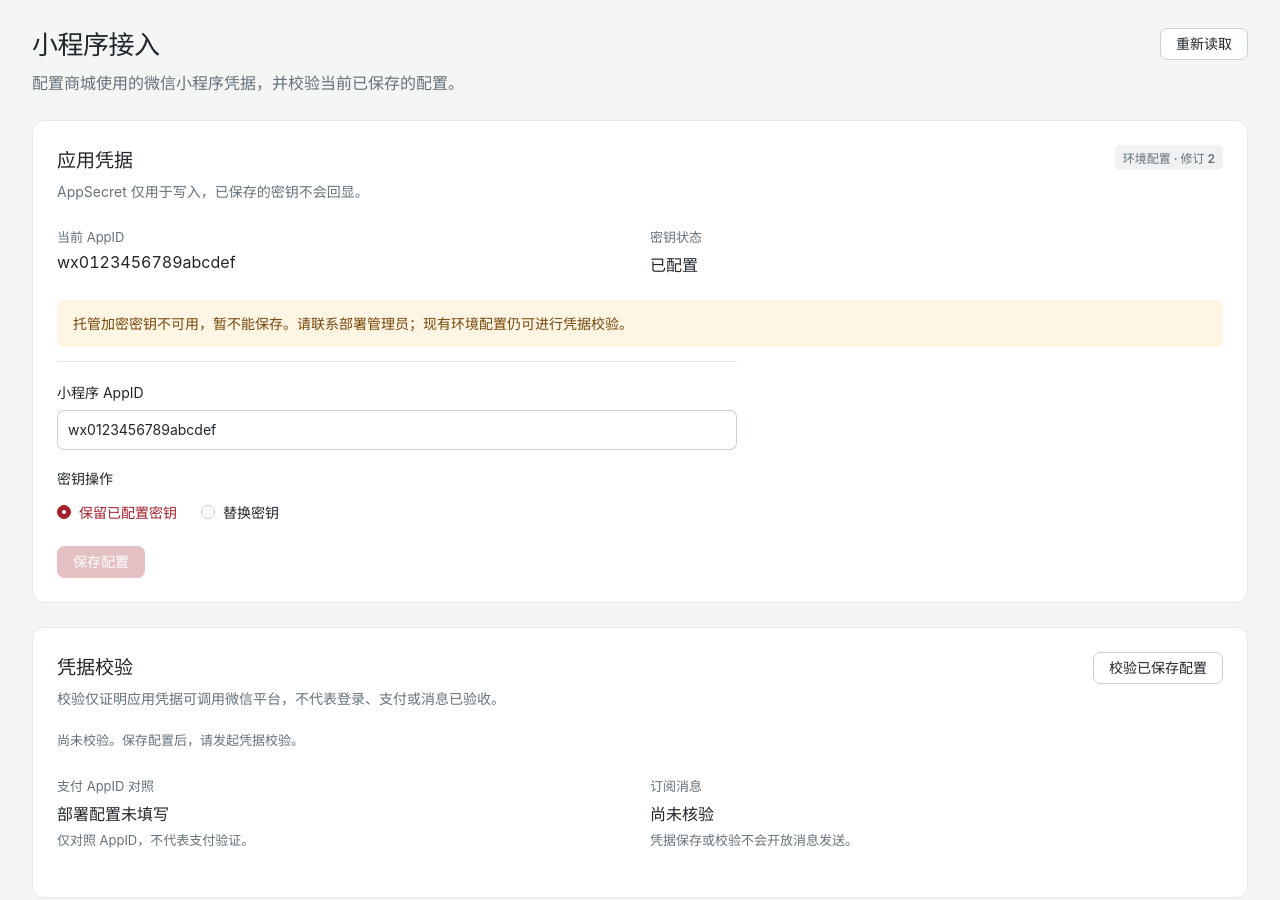
Scenario: WeChat integration boundary › tests only the saved revision and distinguishes credential validation from real login
The image size is (1280, 900).
Expected: the button "保存配置" is disabled, [57,546,145,578]
Click the button "校验已保存配置" at (1158, 668), box [1093,652,1223,684]
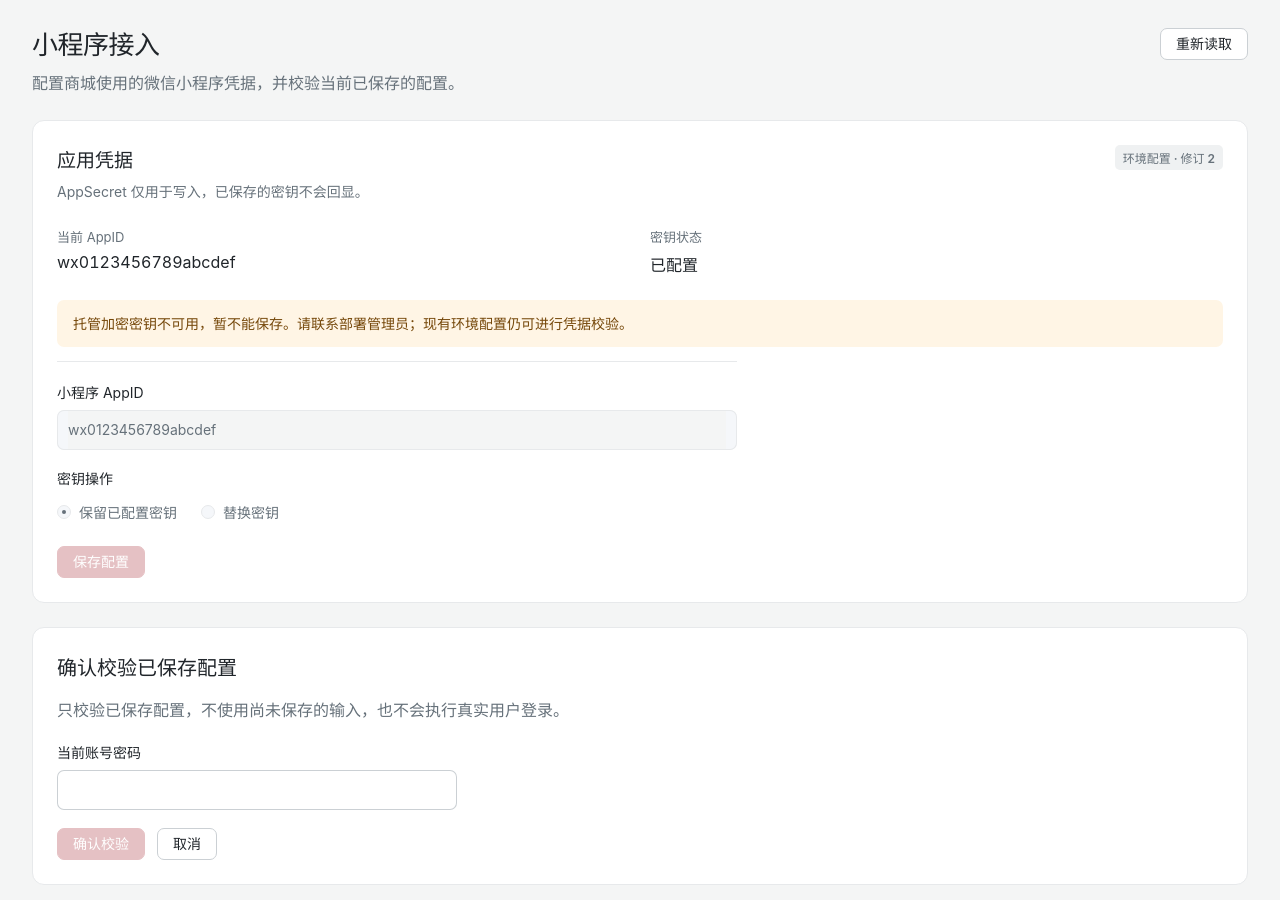
Type "synthetic-password" into the password field with id "wechat-confirm-password" at (257, 790), box [68,771,446,809]
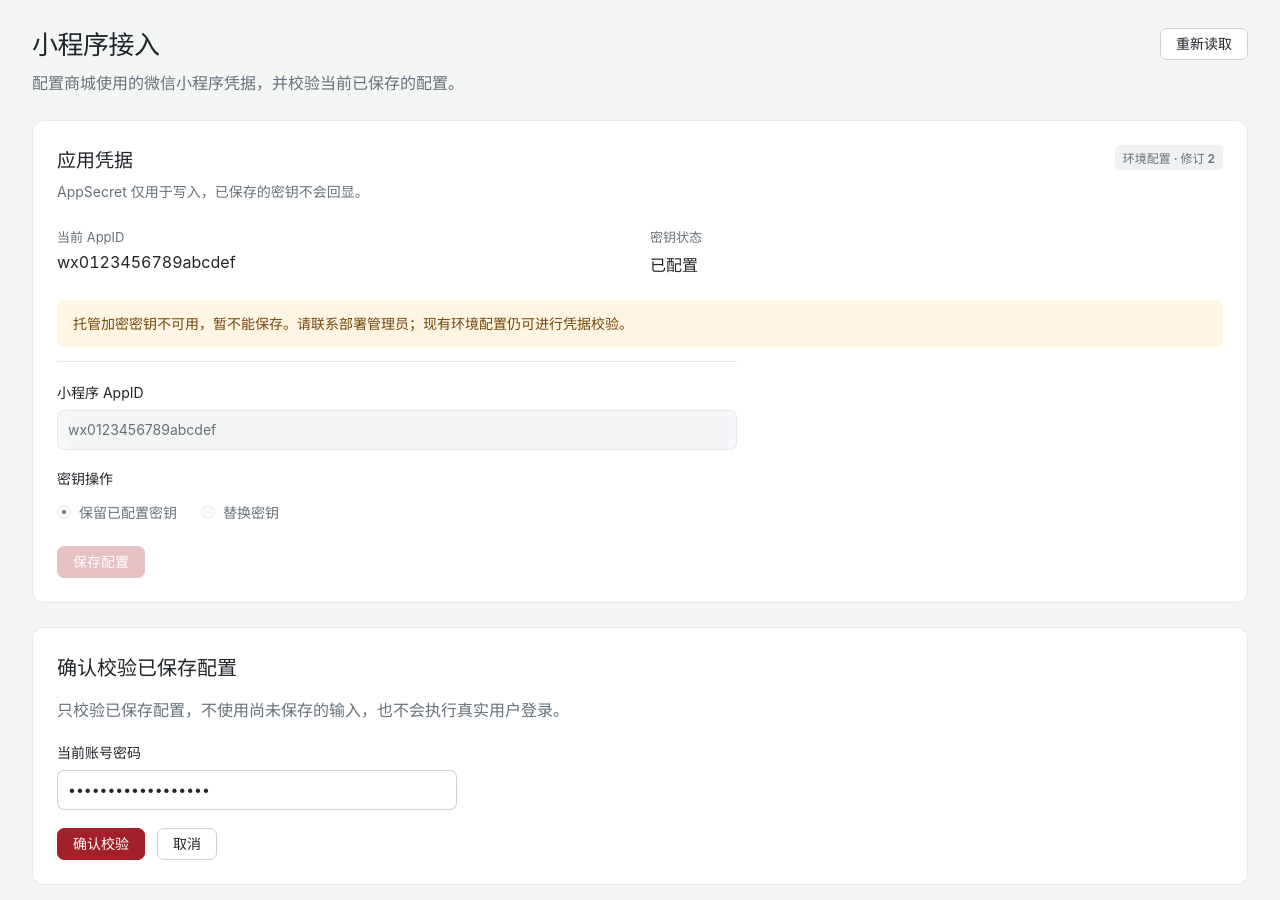
Submit the form named "二次确认", box [32,627,1248,885]
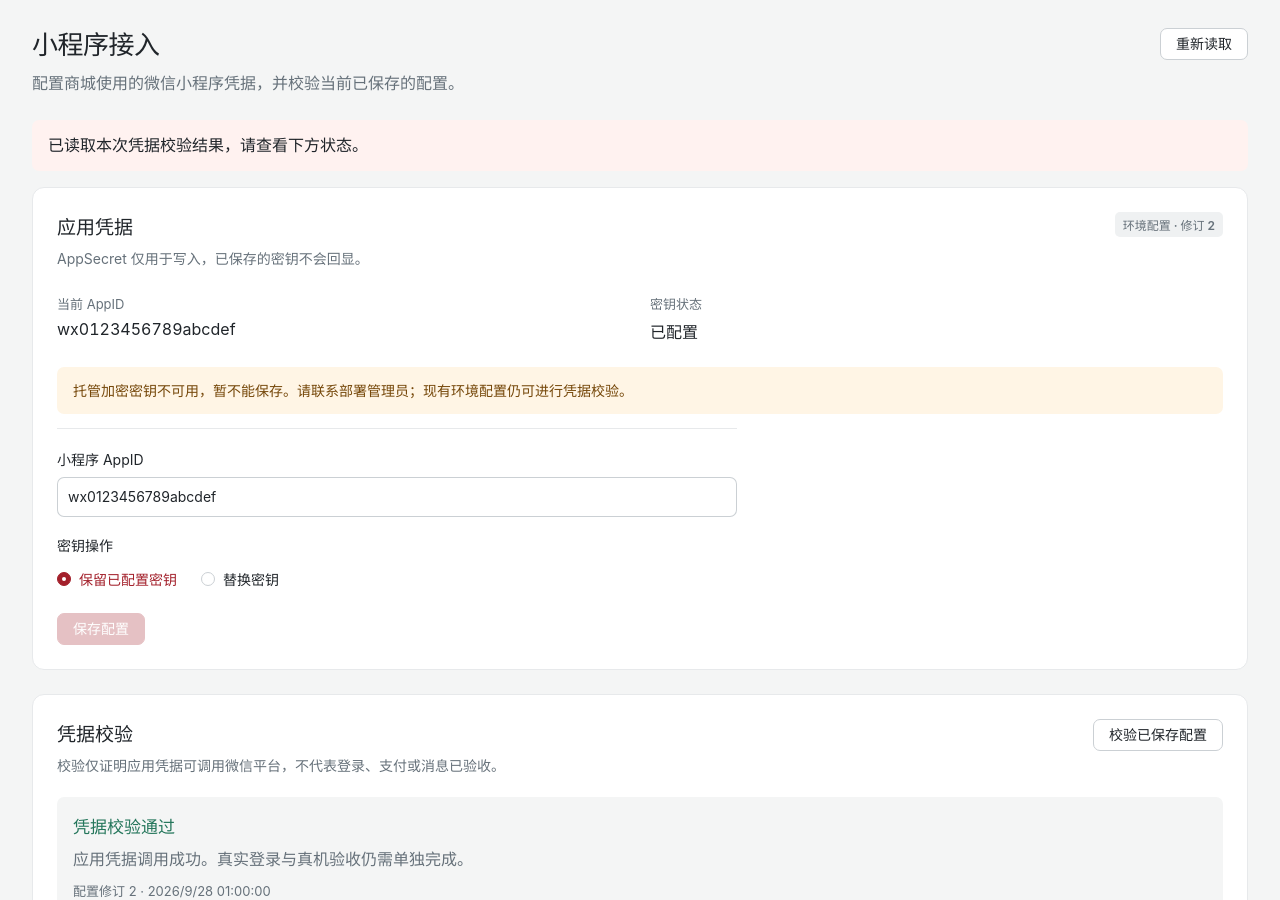
Expected: the text "真实登录与真机验收仍需单独完成" is shown, [73,849,473,869]
Expected: the text "凭据校验通过" is shown, [73,817,175,837]
